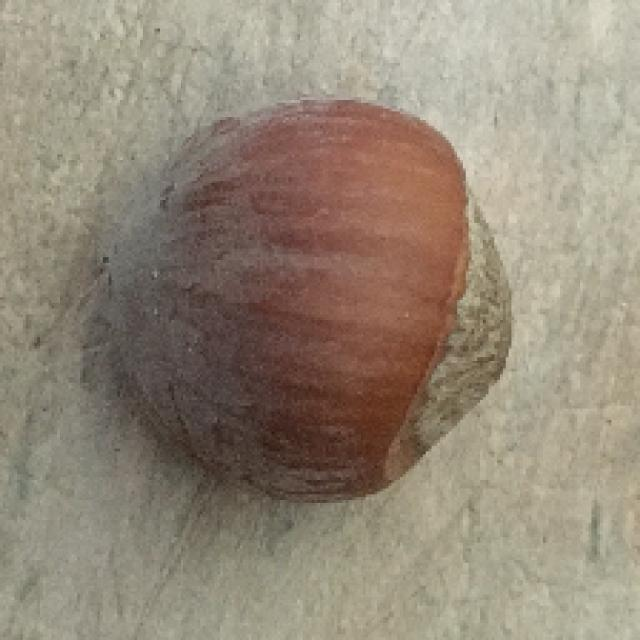qualityHazelnut: (103, 104, 520, 508)
